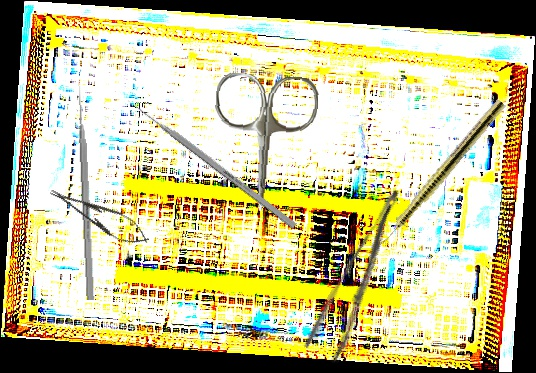Dressing Forceps: (300, 186, 428, 366)
Handpiece: (370, 96, 507, 257)
Iris Scissors: (208, 71, 320, 215)
Needle Holder: (45, 179, 154, 253)
Pusher: (125, 96, 298, 230), (75, 81, 95, 301)
